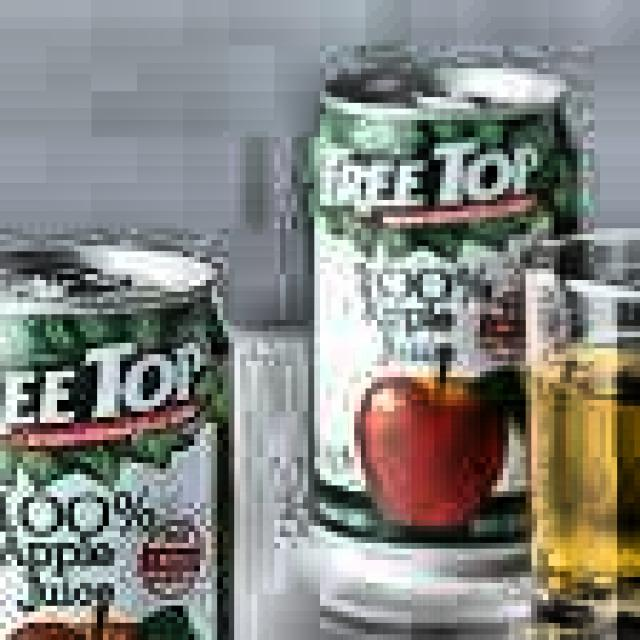metal: (297, 46, 594, 588), (0, 223, 251, 640)
